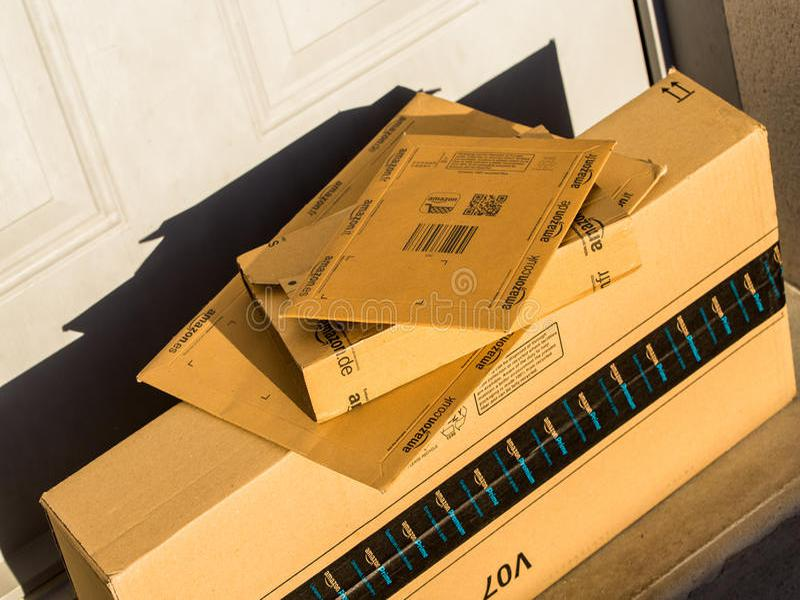package: (22, 59, 786, 584), (274, 125, 624, 340)
